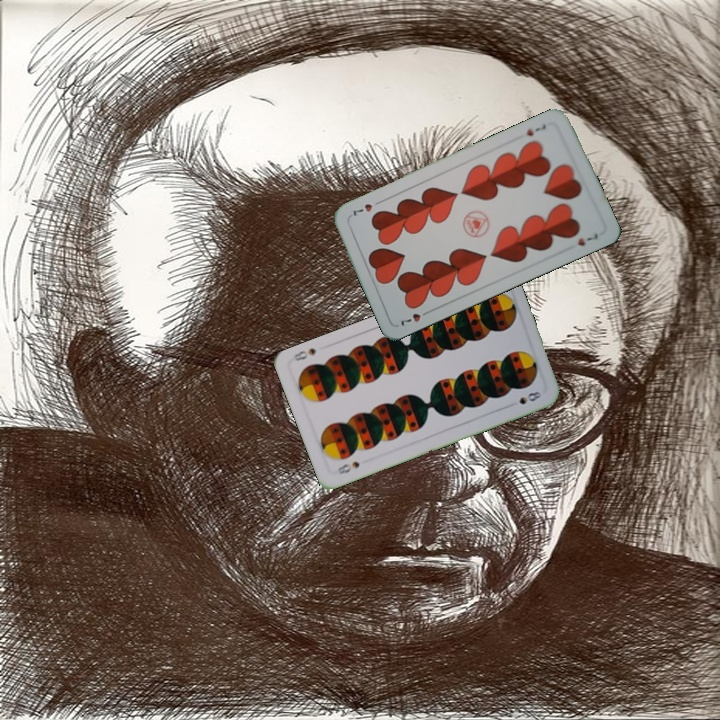H7: (396, 306, 433, 329), (522, 120, 549, 139)
S8: (333, 457, 362, 477)
